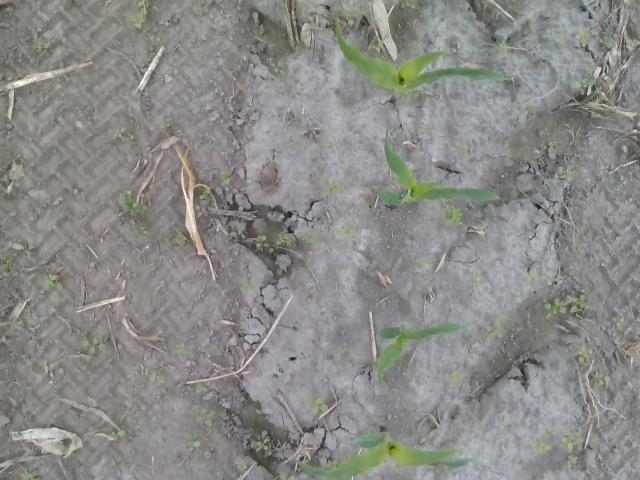Maize: (336, 16, 512, 111), (372, 131, 502, 210), (294, 428, 474, 480), (375, 322, 466, 388)
Weeds: (524, 424, 584, 453), (541, 288, 589, 315), (486, 310, 512, 339), (130, 0, 154, 31), (522, 268, 560, 286), (437, 206, 464, 226), (577, 62, 597, 89), (120, 191, 144, 213), (305, 392, 328, 414), (80, 336, 108, 352), (324, 178, 344, 200), (196, 408, 216, 428), (266, 57, 286, 77), (131, 222, 154, 238), (163, 233, 186, 249), (343, 6, 362, 25), (338, 222, 358, 240), (42, 271, 62, 289), (274, 231, 296, 247), (575, 346, 591, 366), (112, 126, 130, 142), (416, 256, 434, 272), (560, 168, 578, 184), (576, 30, 592, 48), (239, 276, 256, 291), (256, 232, 270, 250), (302, 230, 320, 244), (464, 274, 482, 288), (32, 40, 48, 55), (594, 368, 608, 385), (18, 240, 32, 256), (600, 32, 614, 48), (404, 0, 418, 16), (0, 255, 13, 272), (80, 259, 100, 270), (62, 182, 80, 194), (552, 30, 566, 45), (448, 144, 469, 154), (568, 255, 580, 272), (279, 470, 299, 480), (256, 438, 270, 452), (185, 440, 199, 454), (610, 315, 624, 329), (448, 370, 462, 384), (109, 428, 126, 439), (195, 380, 208, 394), (195, 204, 208, 217), (174, 342, 188, 354), (371, 40, 384, 52), (24, 469, 38, 480), (156, 370, 166, 384), (514, 289, 524, 303), (498, 40, 508, 54), (220, 172, 231, 184), (237, 229, 249, 240), (338, 342, 349, 354), (598, 164, 609, 176), (197, 7, 210, 17), (150, 36, 162, 46), (200, 186, 210, 198), (15, 320, 32, 327), (160, 119, 172, 128), (326, 144, 336, 154), (327, 458, 337, 468), (566, 456, 577, 464), (418, 127, 432, 133), (238, 463, 249, 470), (548, 142, 555, 152), (454, 436, 464, 442), (302, 144, 308, 153), (335, 266, 344, 272), (240, 476, 246, 480)
